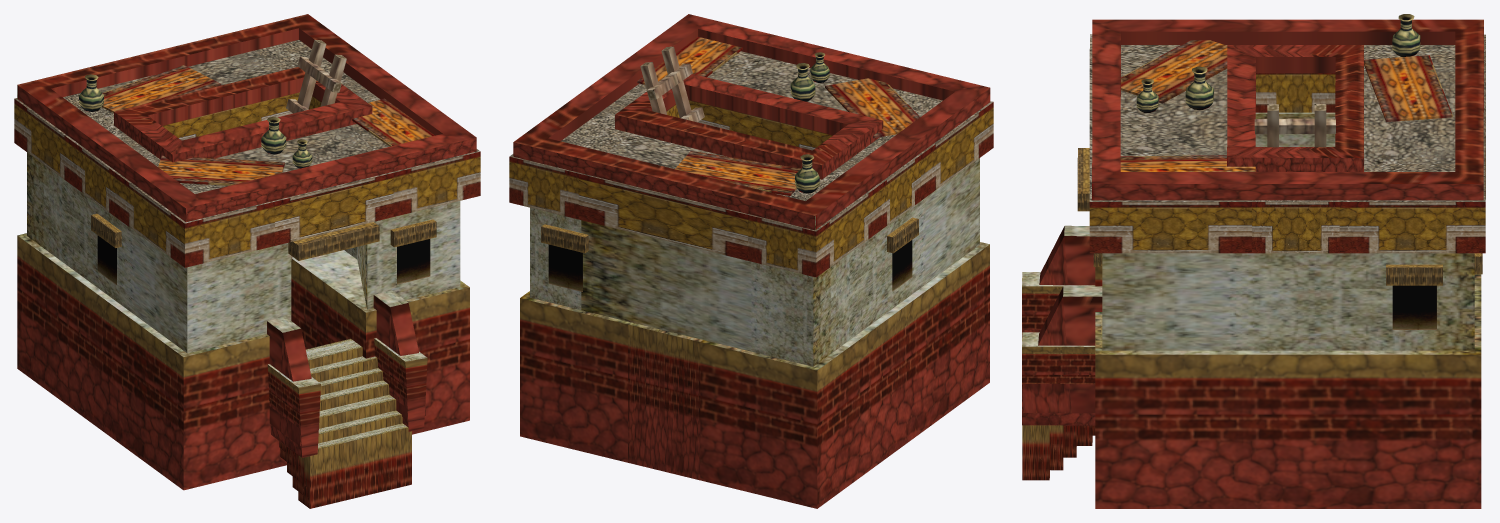
Rendered from house_4.dae.
3 views of the same model, side by side, from view 1: azimuth 30°, elevation 25°; view 2: azimuth 150°, elevation 25°; view 3: azimuth 270°, elevation 25° (orthographic). The views are drawn at different scales.
Parts seen in each view (by area): view 1: house_4; view 2: house_4; view 3: house_4.
Part boxes in pixels (x1,y1,x2,y2): house_4: [14, 14, 480, 508]; house_4: [509, 14, 993, 508]; house_4: [1022, 14, 1485, 508].
Bounding box in the file's own units: 13.28 × 15.55 × 14.62.
